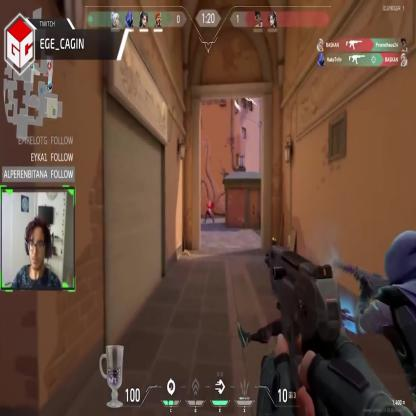enemy: (204, 196, 214, 225)
enemy_head: (208, 197, 210, 203)
